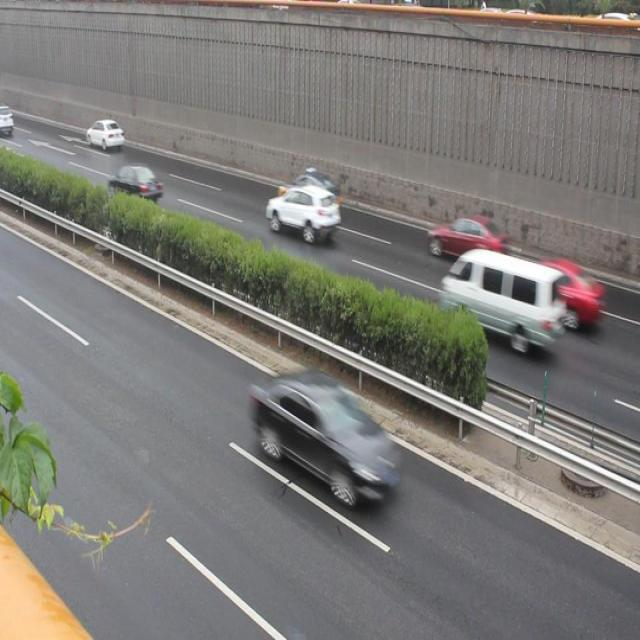car: (250, 363, 399, 512), (536, 245, 605, 325), (263, 184, 339, 249), (422, 212, 502, 267), (109, 154, 162, 207), (278, 164, 338, 210), (80, 116, 128, 154)
truck: (440, 248, 563, 353)
